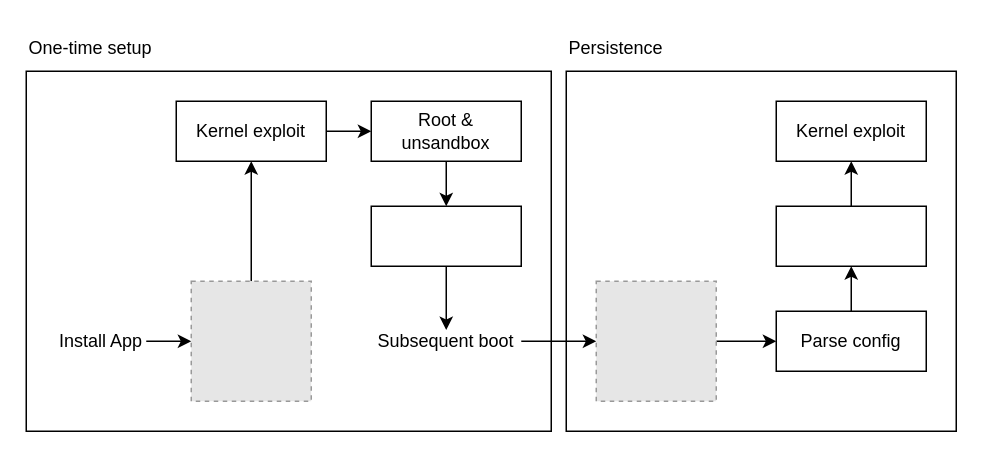
The diagram is 983 pixels wide and 458 high, and some of its shapes have lost their labels. Grey dashed boxes stand in for pictures. Here are the shapes that lost their labels. From the top down, the box of each, then its label:
(370, 205, 521, 266): Drop racoon config file
(775, 205, 926, 266): ROP
